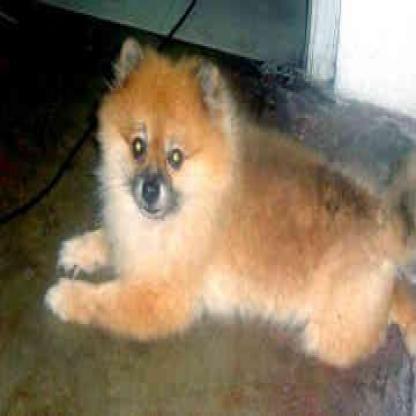Pomeranian: (39, 31, 414, 374)
